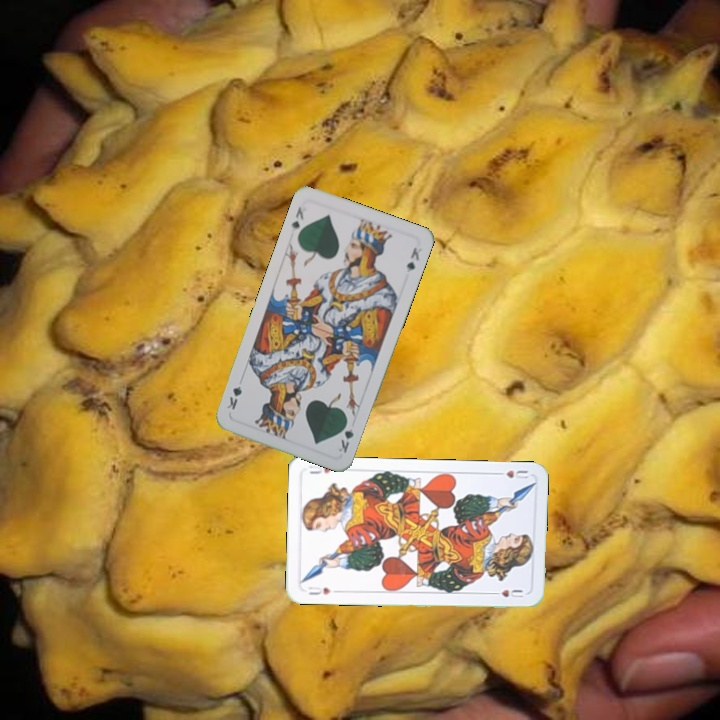GK: (334, 416, 356, 456), (287, 202, 306, 235)
HU: (492, 466, 531, 481), (304, 582, 333, 598)
